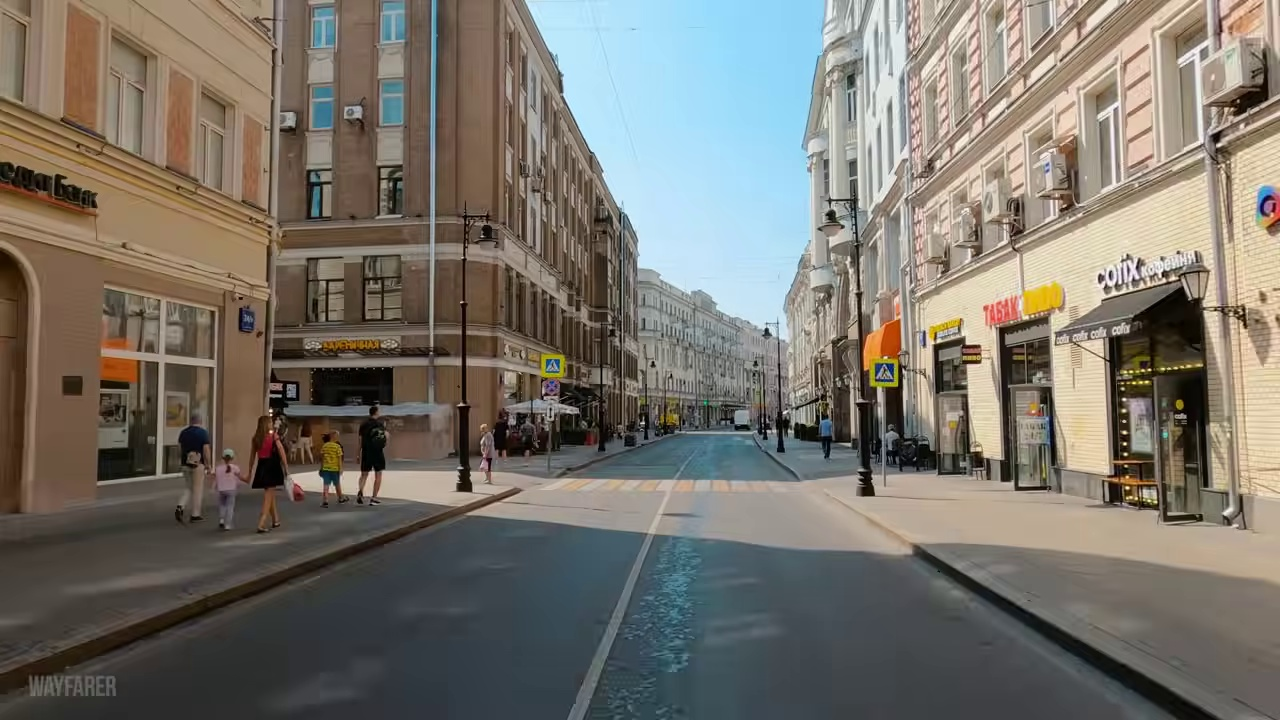apagada: (815, 214, 846, 246)
